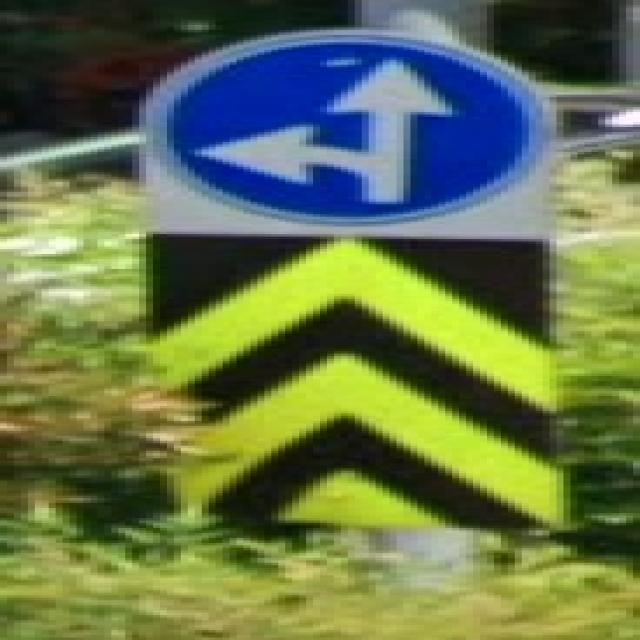Straight or Left: (158, 32, 540, 226)
